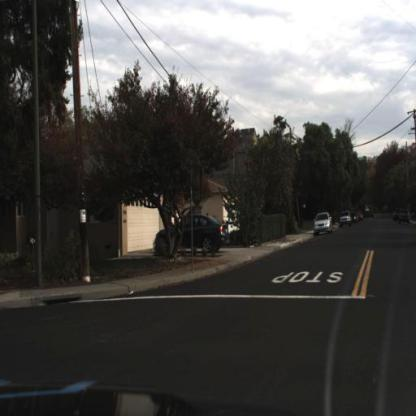car: (154, 215, 230, 255)
